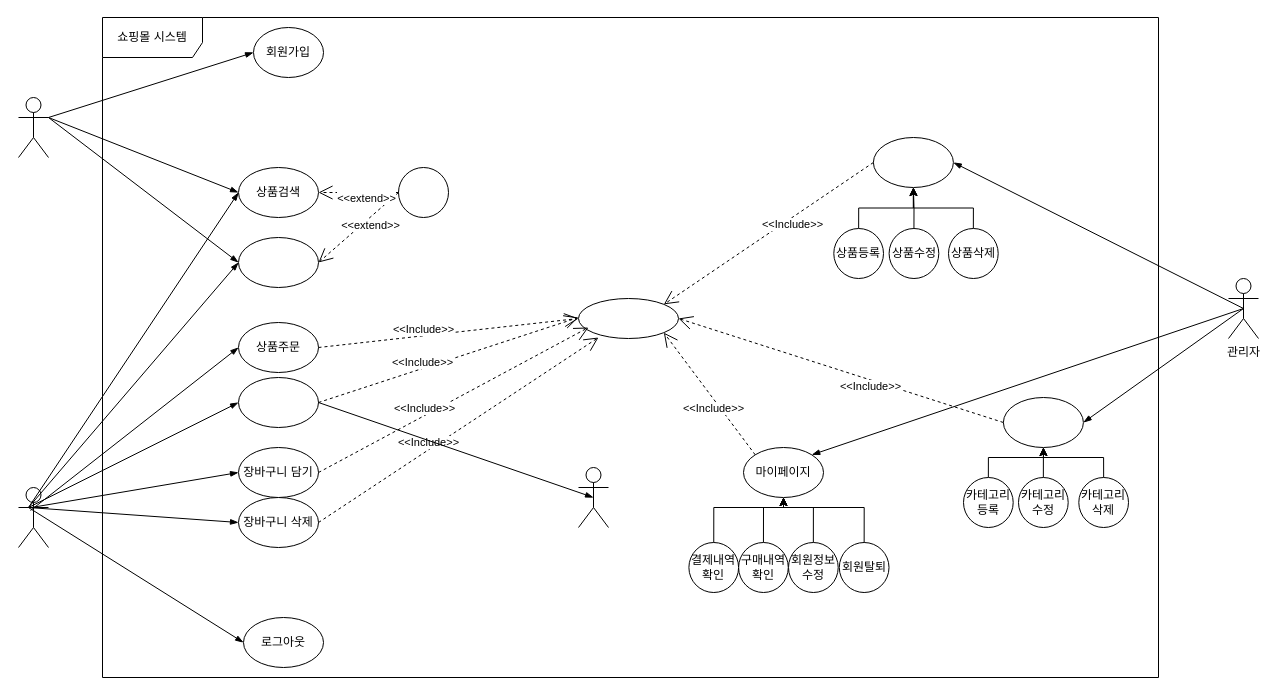
The diagram is 1277 pixels wide and 695 high, and some of its shapes have lost their labels. Here are the shapes that lost their labels. From the top down, the centre of each, then its label:
the point at 33,127: 비회원
the point at 912,162: 상품관리
the point at 423,192: 카테고리 선택
the point at 278,262: 상품목록조회
the point at 628,318: 인증
the point at 278,402: 상품결제
the point at 1042,422: 카테고리관리
the point at 33,517: 회원
the point at 593,497: 결제 회사
